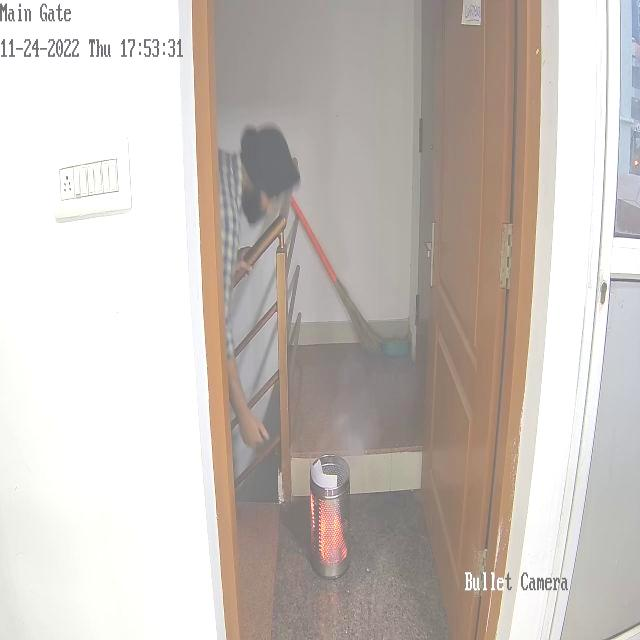fire: (320, 508, 344, 559)
smoke: (342, 370, 371, 440), (332, 416, 355, 457), (309, 271, 325, 319), (330, 211, 342, 262), (318, 146, 328, 190)
